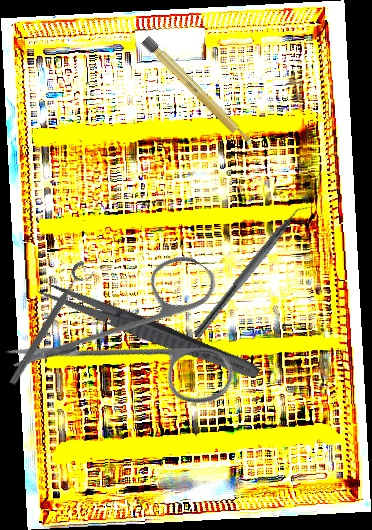Chopper: (192, 194, 318, 346)
Dressing Forceps: (35, 277, 263, 384)
Fixation Ring: (5, 258, 98, 392)
Iris Scissors: (1, 201, 279, 476)
Scalpel Handle: (141, 35, 255, 150)
